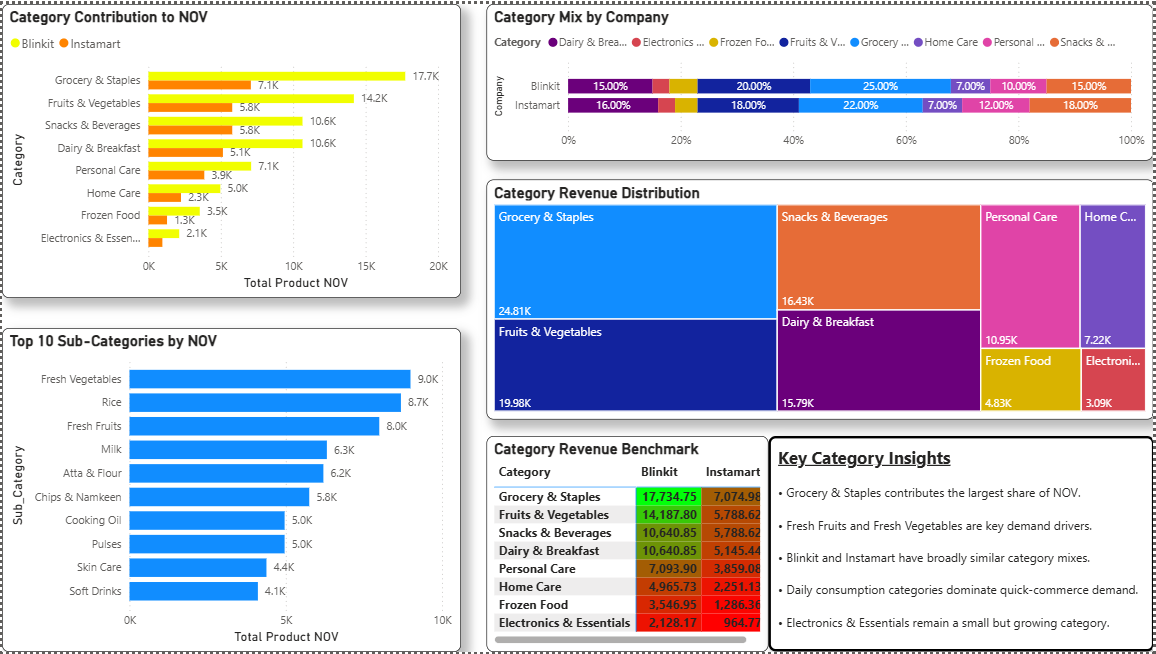

The dashboard page shown, as its layout file describes it:
{"tool":"powerbi","page":{"name":"Product & Category Performance","canvas":[1280,720],"ordinal":3},"visuals":[{"type":"clusteredBarChart","title":"Category Contribution to NOV","fields":{"Category":["Fact_ProductPerformance.Category"],"Y":["Fact_ProductPerformance.Total Product NOV"],"Series":["Dim_Company.Company"]},"box":[0,0,510,326.7],"z":0},{"type":"hundredPercentStackedBarChart","title":"Category Mix by Company","fields":{"Category":["Dim_Company.Company"],"Series":["Fact_ProductPerformance.Category"],"Y":["Fact_ProductPerformance.Total Product NOV"]},"box":[539.1,0,740.4,174.1],"z":1000},{"type":"treemap","title":"Category Revenue Distribution","fields":{"Group":["Fact_ProductPerformance.Category"],"Values":["Fact_ProductPerformance.Total Product NOV"]},"box":[538.3,195,741.7,266.7],"z":2000},{"type":"barChart","title":"Top 10 Sub-Categories by NOV","fields":{"Category":["Fact_ProductPerformance.Sub_Category"],"Y":["Fact_ProductPerformance.Total Product NOV"]},"box":[0,360,510,360],"z":3000},{"type":"pivotTable","title":"Category Revenue Benchmark","fields":{"Rows":["Fact_ProductPerformance.Category"],"Columns":["Dim_Company.Company"],"Values":["Fact_ProductPerformance.Total Product NOV"]},"box":[538.3,480,313.3,240],"z":4000},{"type":"textbox","box":[851,480,428.5,239.2],"z":5000}]}

Visuals, with their boxes in screenshot pixels (x1, y1, x2, y2), scaled from the page's 1280x720 canvas onto the 1156x654 screenshot:
"Category Contribution to NOV" clusteredBarChart: bbox=[0, 0, 461, 297]
"Category Mix by Company" hundredPercentStackedBarChart: bbox=[487, 0, 1155, 158]
"Category Revenue Distribution" treemap: bbox=[486, 177, 1155, 419]
"Top 10 Sub-Categories by NOV" barChart: bbox=[0, 327, 461, 653]
"Category Revenue Benchmark" pivotTable: bbox=[486, 436, 769, 653]
textbox: bbox=[769, 436, 1155, 653]
